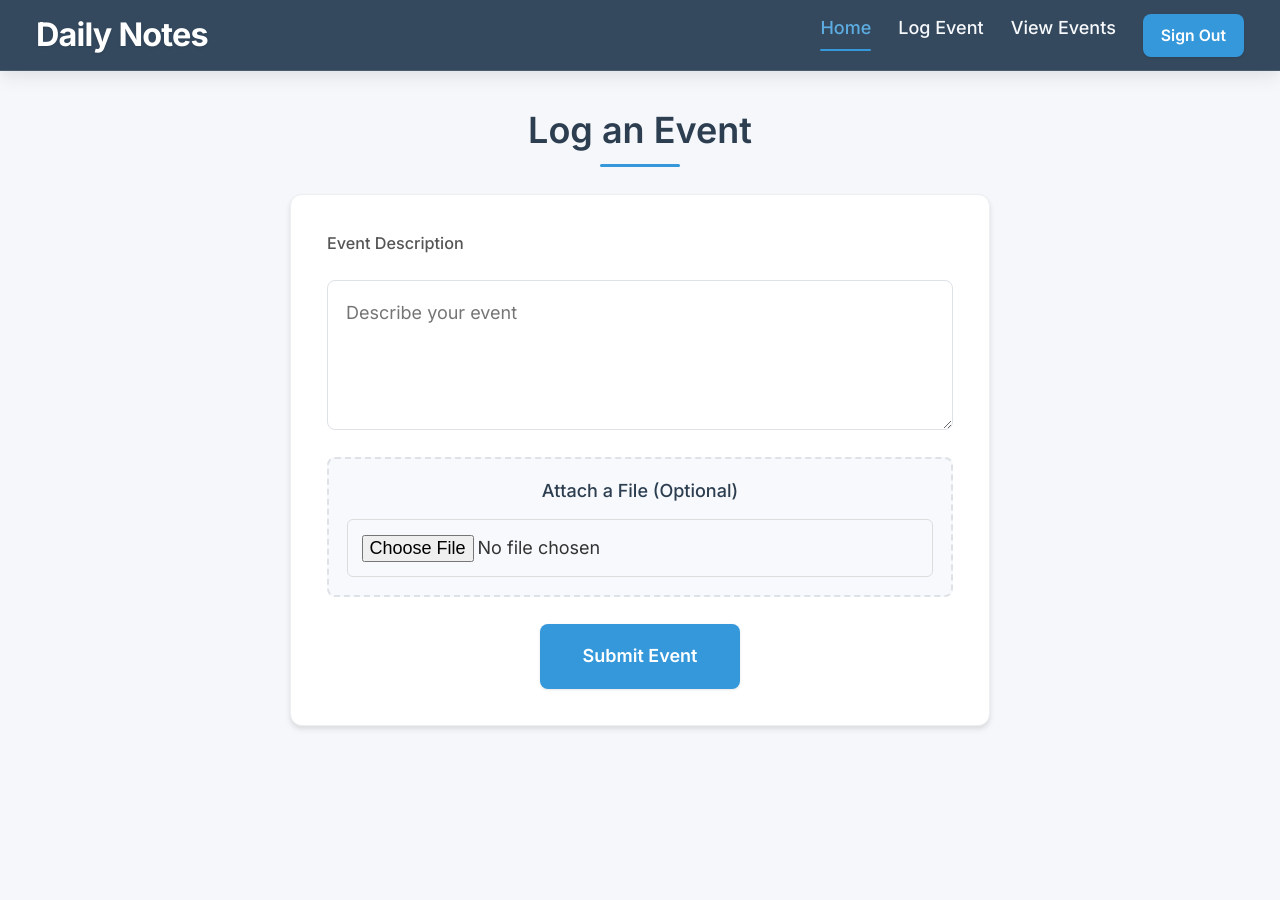
Test: shows validation or error when submitting with neither text nor file
This screenshot has width=1280, height=900.
Click the button "Submit Event": x=640, y=656 540,624 -> 740,689
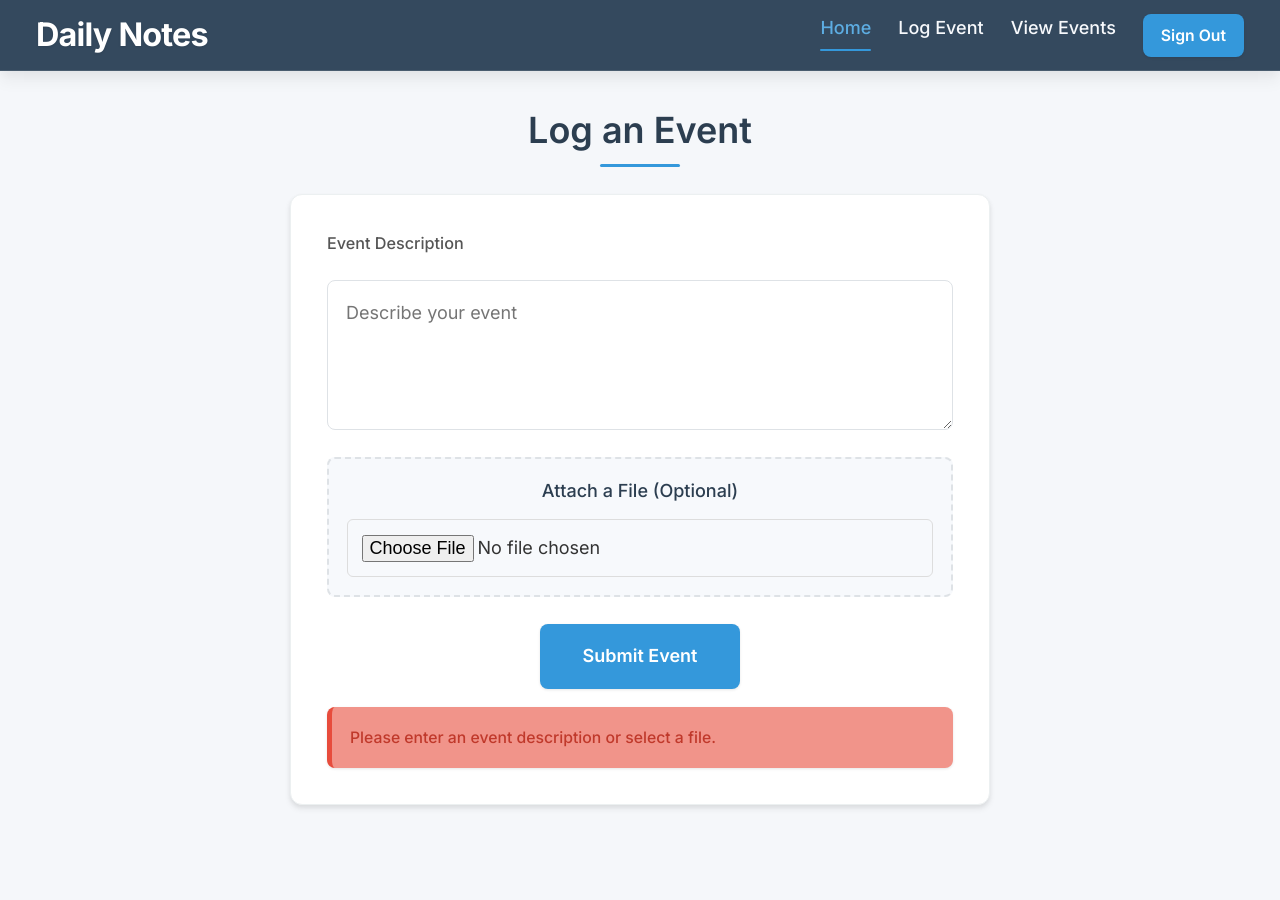
Now the text "Please enter an event description or select a file." is shown, box 327,707 -> 953,768
